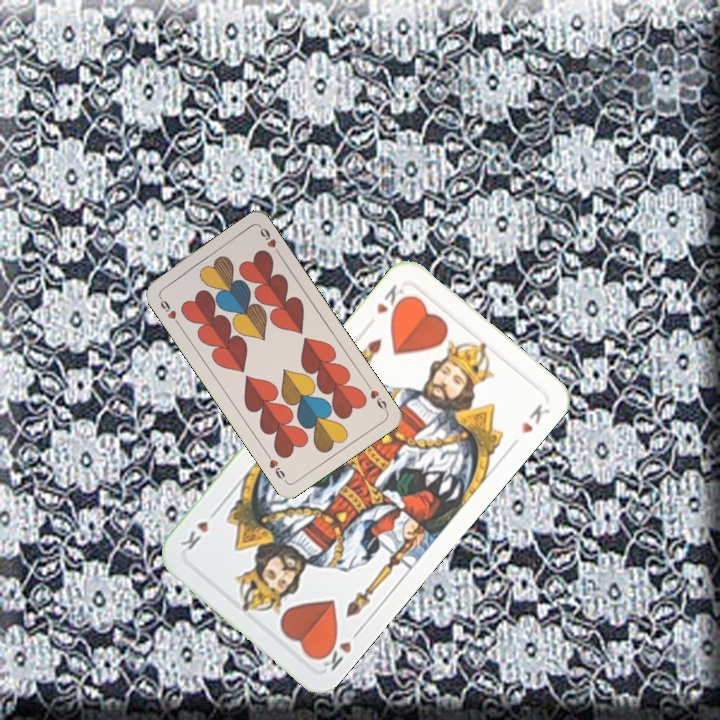H9: (363, 379, 390, 415), (155, 293, 182, 328)
HK: (313, 624, 364, 674), (372, 280, 411, 320)
